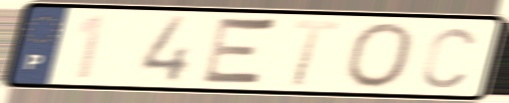1: (74, 12, 108, 82)
4: (136, 13, 196, 86)
C: (419, 24, 478, 91)
E: (197, 13, 282, 90)
O: (341, 20, 417, 91)
T: (288, 17, 343, 89)
